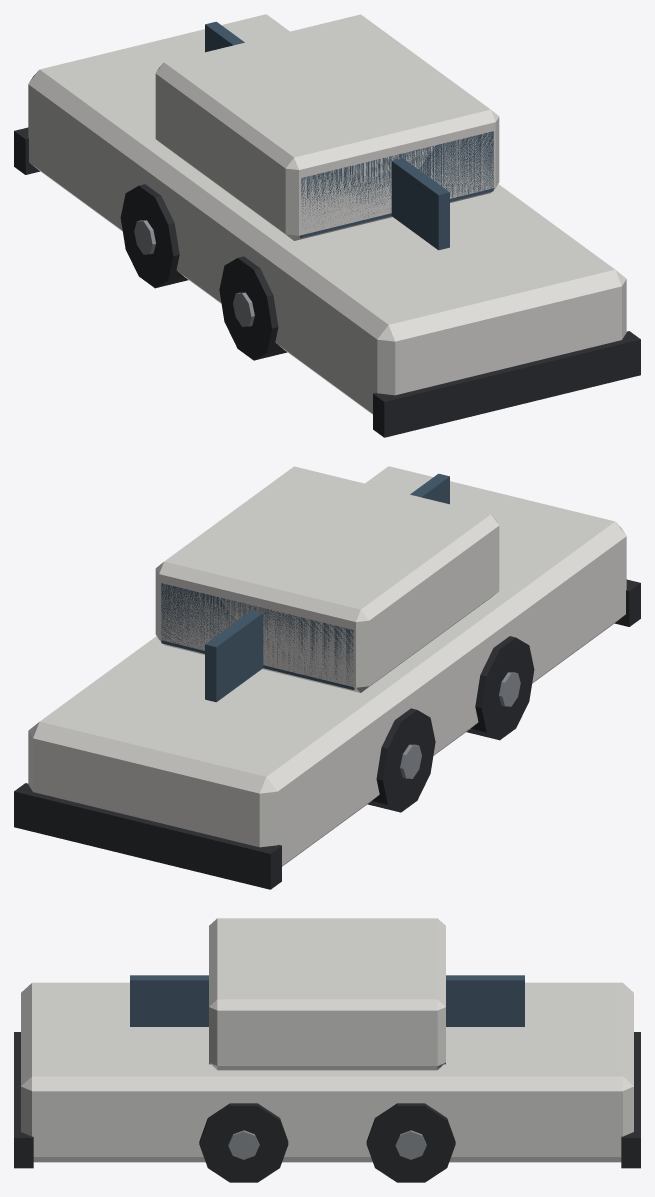
The model's file is vehicle.sedan.glb.
3 renders of one model, top to bottom at view 1: azimuth 30°, elevation 25°; view 2: azimuth 150°, elevation 25°; view 3: azimuth 270°, elevation 25°, orthographic. The views are drawn at different scales.
Visible parts, largest first — view 1: vehicle.sedan; view 2: vehicle.sedan; view 3: vehicle.sedan.
Boxes of the visible parts, x1,y1,x2,y2 form: vehicle.sedan: [14, 14, 640, 437]; vehicle.sedan: [14, 466, 640, 889]; vehicle.sedan: [14, 918, 640, 1182].
Bounding box in the file's own units: 1.89 × 1.34 × 4.5.
